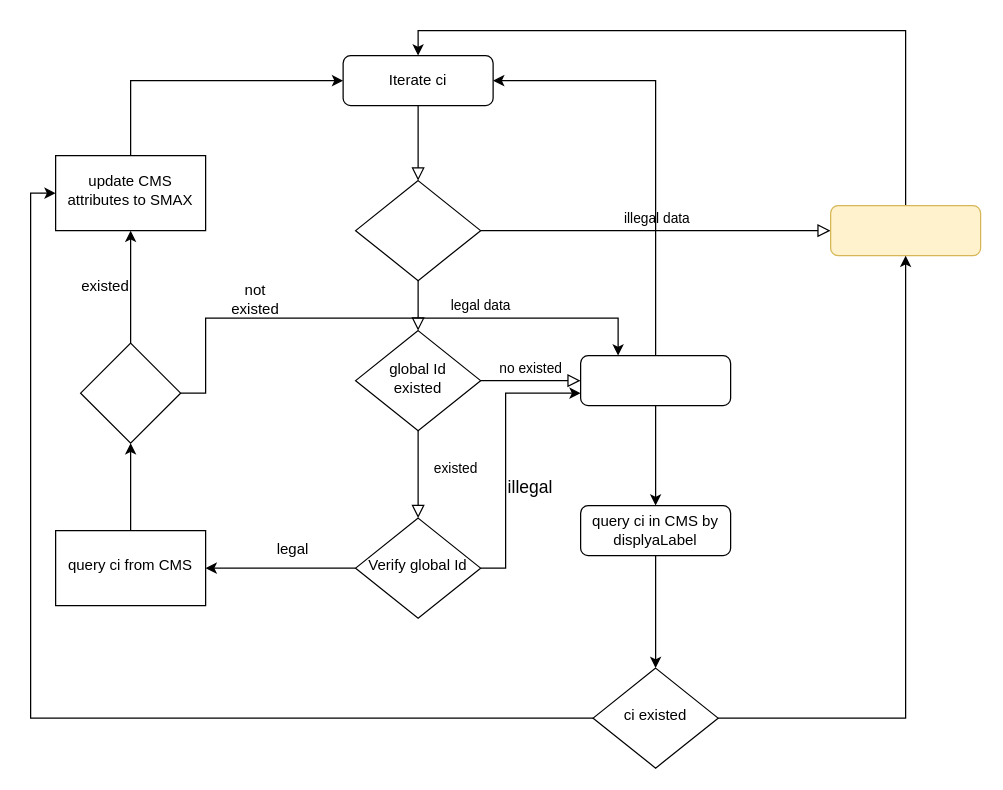
Some shapes in this 1003 by 790 pixel diagram are drawn without their labels. Here are the shapes that lost their labels. From the top down, the box of each, then its label:
(354, 179, 481, 281): Filter Data
(829, 204, 981, 256): Add to failed list
(79, 342, 181, 443): ci existed in CMS
(579, 354, 731, 406): create ci in CMS
